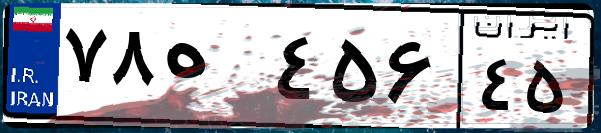4: (270, 28, 330, 110), (475, 38, 525, 113)
5: (330, 28, 385, 110), (525, 38, 570, 115)
6: (385, 28, 445, 110)
7: (57, 26, 110, 100)
8: (110, 28, 158, 98)
ه: (158, 20, 270, 120)
